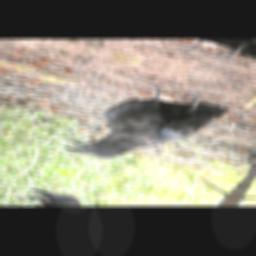Crow: (59, 76, 240, 175)
